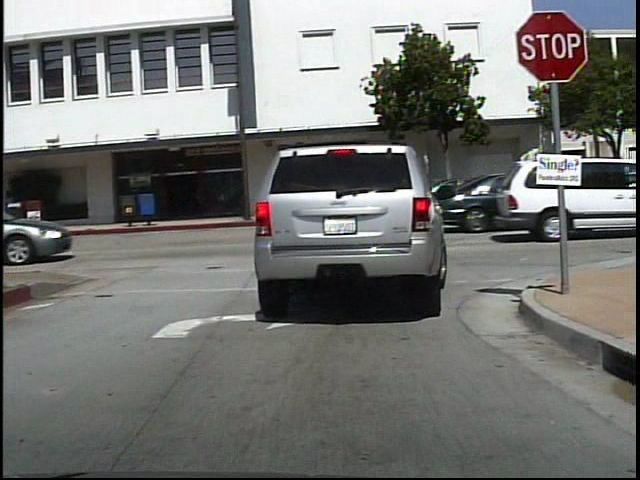person: (6, 183, 25, 230)
